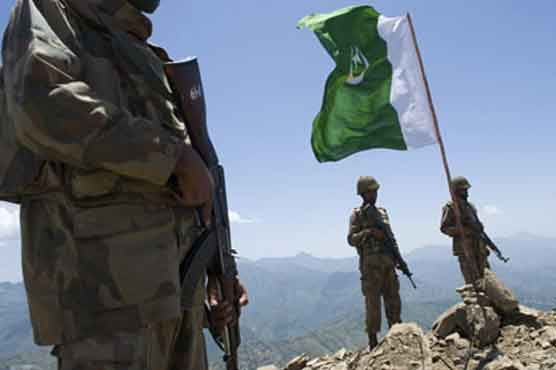gun: (150, 40, 250, 351), (357, 198, 426, 289), (453, 196, 513, 268)
uniform: (5, 4, 225, 358), (340, 169, 410, 339), (432, 165, 503, 312)
